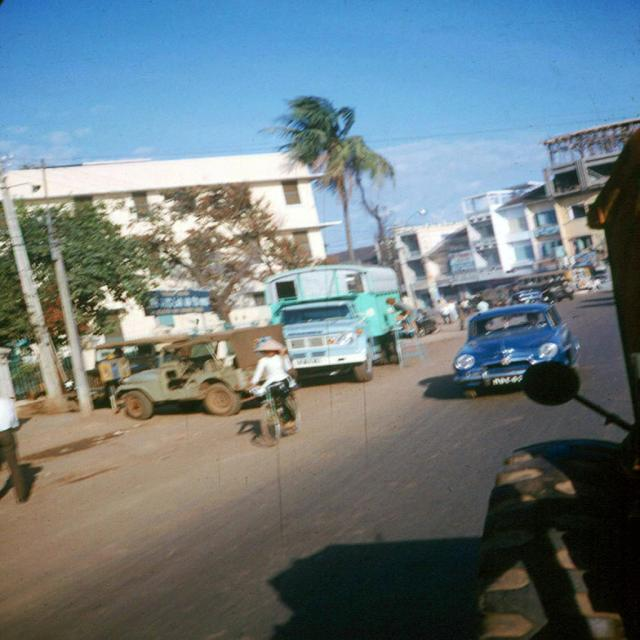car: (444, 295, 582, 395)
